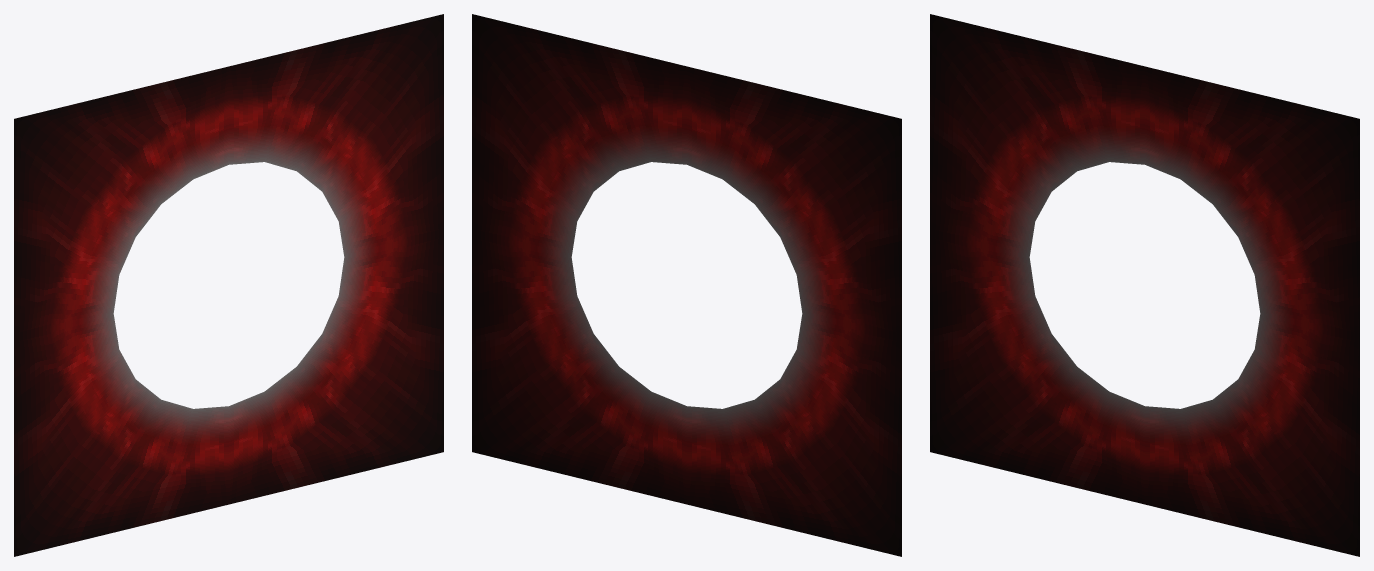
Rendered from bloodscreen.obj.fbx.
3 renders of one model, left to right at view 1: azimuth 30°, elevation 25°; view 2: azimuth 150°, elevation 25°; view 3: azimuth 330°, elevation 25°, orthographic.
Visible parts, largest first — view 1: bloodscreen; view 2: bloodscreen; view 3: bloodscreen.
Boxes of the visible parts, bbox=[...] form: bloodscreen: bbox=[14, 14, 443, 556]; bloodscreen: bbox=[472, 14, 901, 556]; bloodscreen: bbox=[930, 14, 1359, 556].
Bounding box in the file's own units: 1.36 × 1.31e-08 × 1.33.
Materials: 1 (1 with a texture image).
